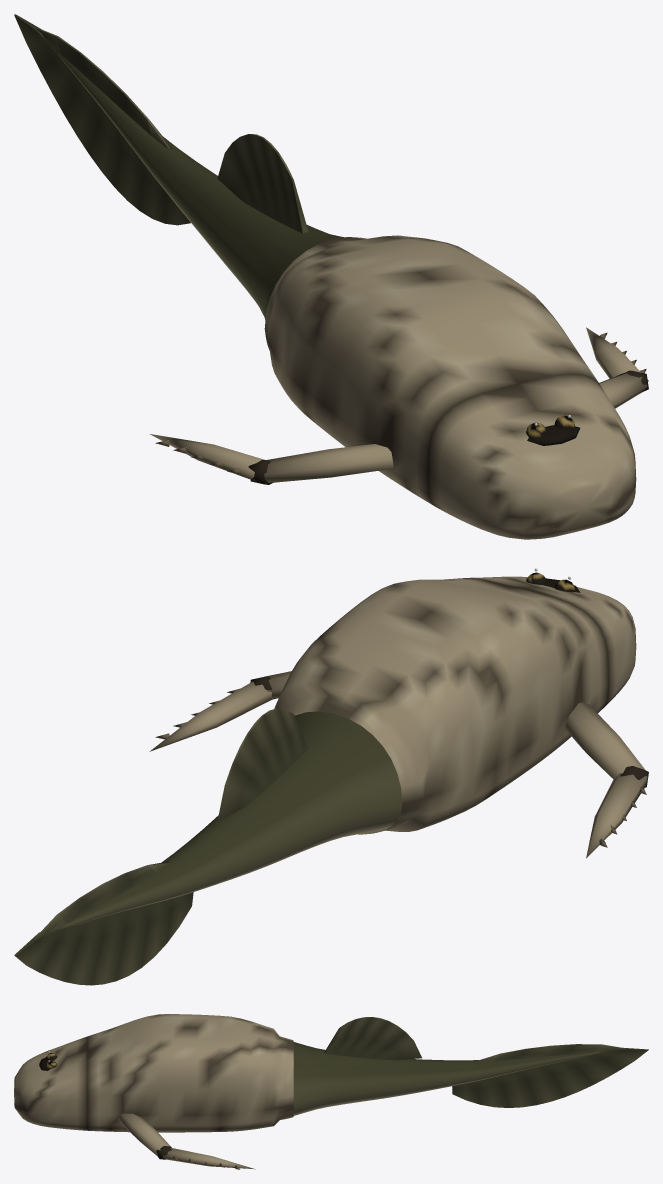
File: Bothriolepis.fbx
3 renders of one model, top to bottom at view 1: azimuth 30°, elevation 25°; view 2: azimuth 150°, elevation 25°; view 3: azimuth 270°, elevation 25°, orthographic. The views are drawn at different scales.
Parts seen in each view (by area): view 1: Bothriolepis; view 2: Bothriolepis; view 3: Bothriolepis.
Part boxes in pixels (x1=…): Bothriolepis: x1=14, y1=14, x2=648, y2=539; Bothriolepis: x1=14, y1=568, x2=648, y2=985; Bothriolepis: x1=14, y1=1014, x2=648, y2=1169.
Size of the model in its own units: 0.7715 by 0.2863 by 1.68.
